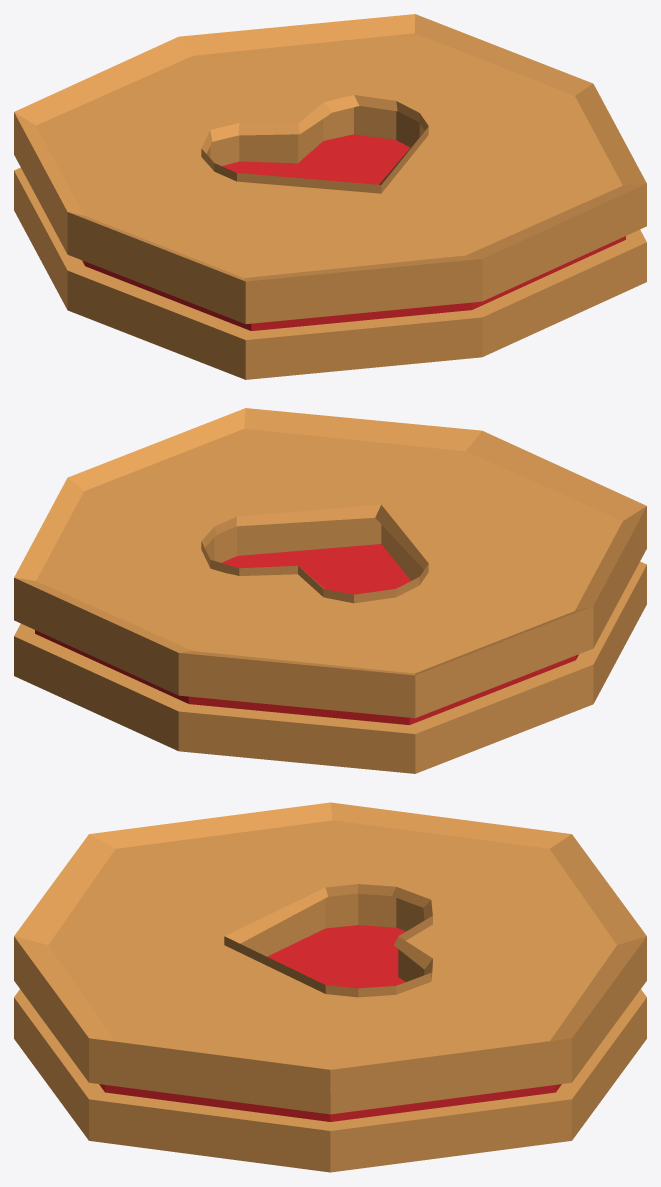
The model's file is jammy_dodger.fbx.
3 renders of one model, top to bottom at view 1: azimuth 30°, elevation 25°; view 2: azimuth 150°, elevation 25°; view 3: azimuth 270°, elevation 25°, orthographic. The views are drawn at different scales.
Parts seen in each view (by area): view 1: jammy; view 2: jammy; view 3: jammy.
Part boxes in pixels (box(x1,y1,x2,y2)): jammy: box(14, 14, 646, 379); jammy: box(14, 408, 646, 773); jammy: box(14, 802, 646, 1172).
Bounding box in the file's own units: 83.82 × 14.99 × 83.82.
